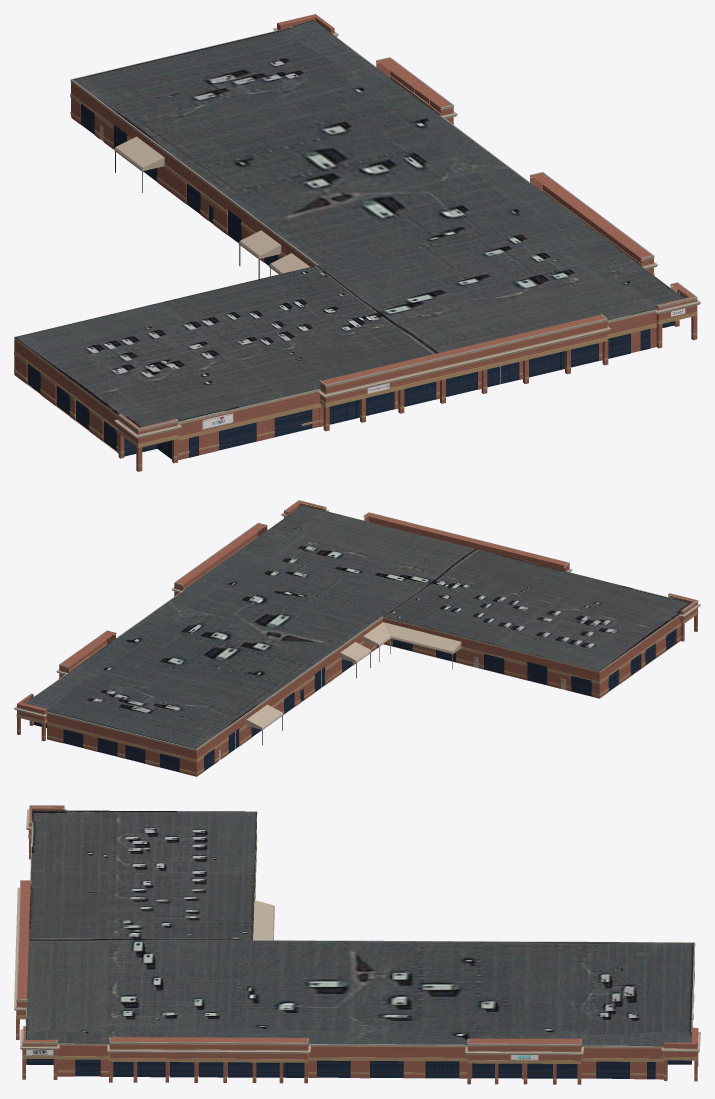
Rendered from hsv_building_3.fbx.
The picture shows the model from 3 angles, top to bottom: view 1: azimuth 30°, elevation 25°; view 2: azimuth 150°, elevation 25°; view 3: azimuth 270°, elevation 25°; orthographic projection. The views are drawn at different scales.
Parts seen in each view (by area): view 1: polySurface179; view 2: polySurface179; view 3: polySurface179.
Boxes of the visible parts, box(x1,y1,x2,y2) form: polySurface179: box(14, 14, 700, 471); polySurface179: box(14, 500, 700, 776); polySurface179: box(14, 805, 700, 1084).
Bounding box in the file's own units: 8858 × 680 × 10510.
Materials: 9 (8 with a texture image).
